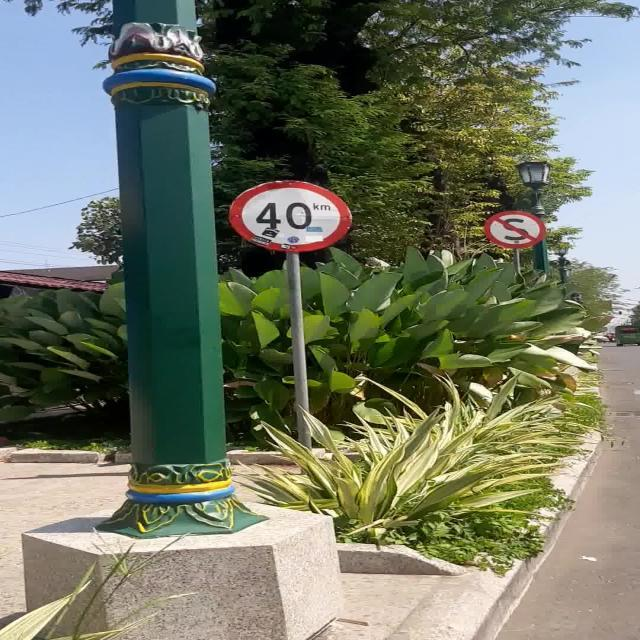Kecepatan Maks. 40 km: (228, 180, 352, 252)
